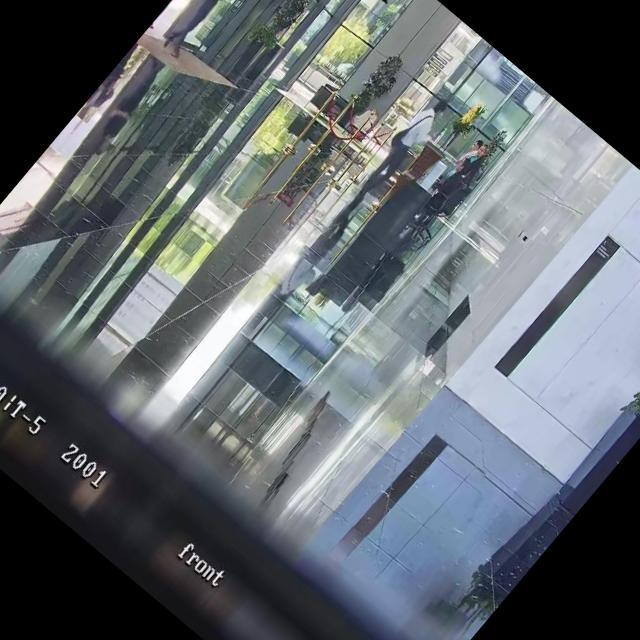person: (348, 90, 455, 210), (157, 0, 256, 61), (423, 154, 475, 212), (148, 0, 223, 33), (452, 140, 492, 183), (459, 137, 485, 166)
